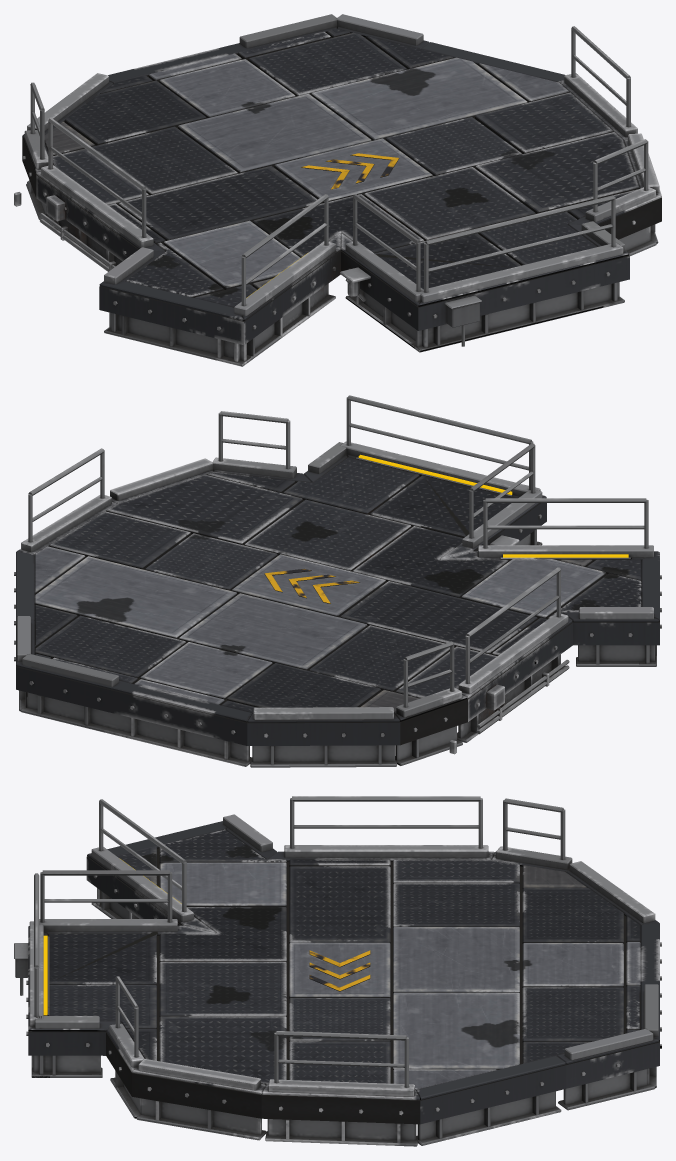
The model's file is nodexeus-set-deck-m5.glb.
3 renders of one model, top to bottom at view 1: azimuth 30°, elevation 25°; view 2: azimuth 150°, elevation 25°; view 3: azimuth 270°, elevation 25°, orthographic. The views are drawn at different scales.
Parts seen in each view (by area): view 1: set-deck-m5; view 2: set-deck-m5; view 3: set-deck-m5.
Boxes of the visible parts, box(x1,y1,x2,y2) form: set-deck-m5: box(14, 14, 661, 366); set-deck-m5: box(14, 395, 661, 767); set-deck-m5: box(14, 796, 661, 1146).
Size of the model in its own units: 10.22 by 1.84 by 10.
1 material, 1 textured.
